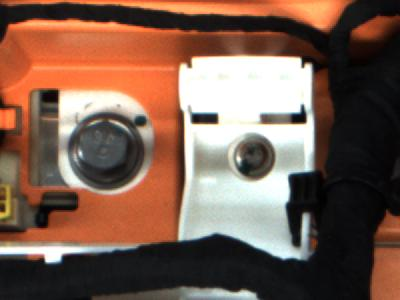nut_b: (66, 110, 149, 189)
